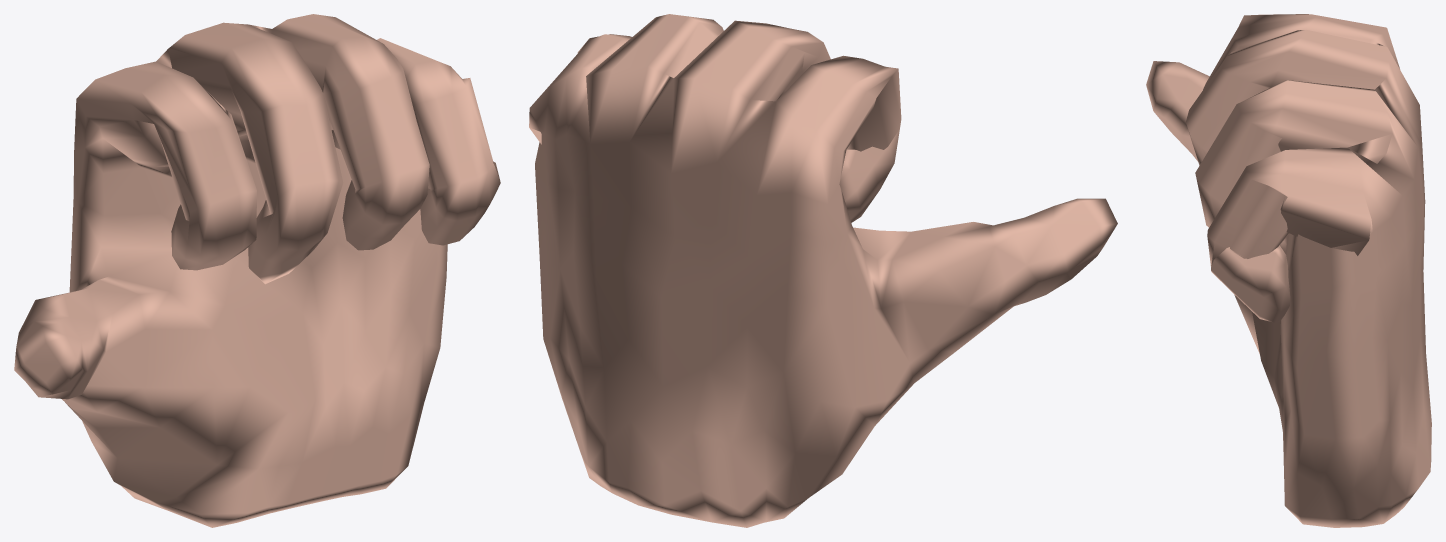
Rendered from MAO_ONZE.obj.
The picture shows the model from 3 angles, left to right: view 1: azimuth 30°, elevation 25°; view 2: azimuth 150°, elevation 25°; view 3: azimuth 270°, elevation 25°; orthographic projection. The views are drawn at different scales.
Visible parts, largest first — view 1: mao_dir polySurface1; view 2: mao_dir polySurface1; view 3: mao_dir polySurface1.
Part boxes in pixels (<box>): mao_dir polySurface1: <box>14,14,500,527</box>; mao_dir polySurface1: <box>529,14,1117,527</box>; mao_dir polySurface1: <box>1146,14,1431,527</box>.
Size of the model in its own units: 174 by 155 by 92.6.
